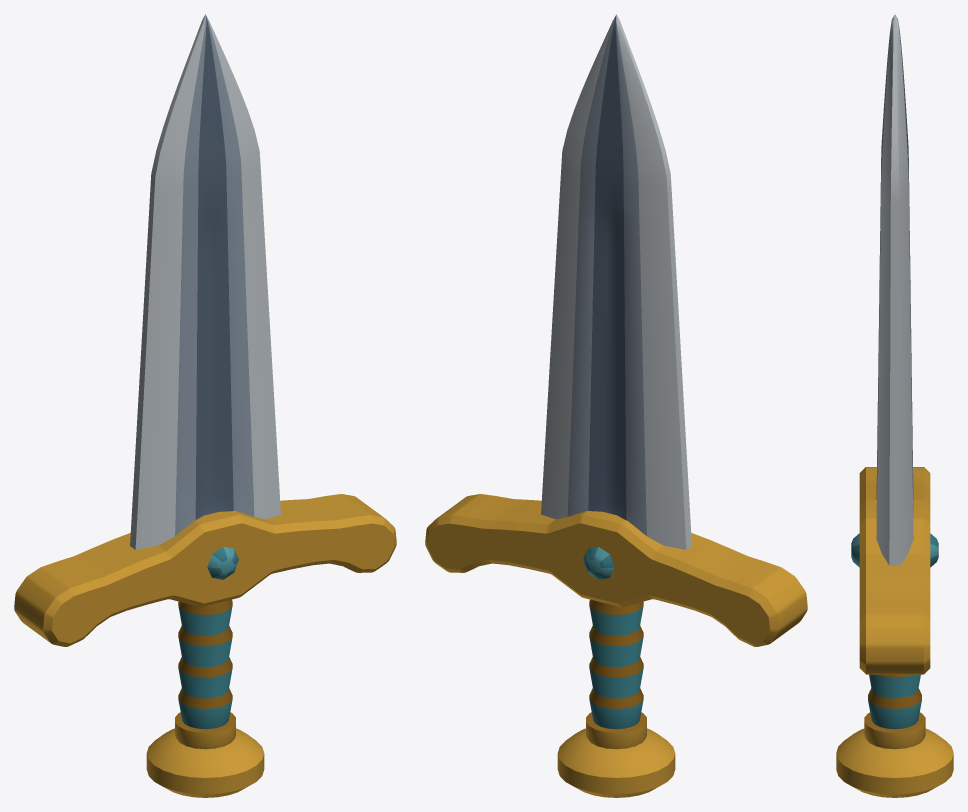
File: Broadsword_09.glb
3 renders of one model, left to right at view 1: azimuth 30°, elevation 25°; view 2: azimuth 150°, elevation 25°; view 3: azimuth 270°, elevation 25°, orthographic.
Parts seen in each view (by area): view 1: Broadsword_09; view 2: Broadsword_09; view 3: Broadsword_09.
Part boxes in pixels (left/top/right/bottom): Broadsword_09: left=14, top=14, right=396, bottom=797; Broadsword_09: left=425, top=14, right=807, bottom=797; Broadsword_09: left=836, top=14, right=953, bottom=797.
Size of the model in its own units: 2.83 by 5.84 by 0.8138.
